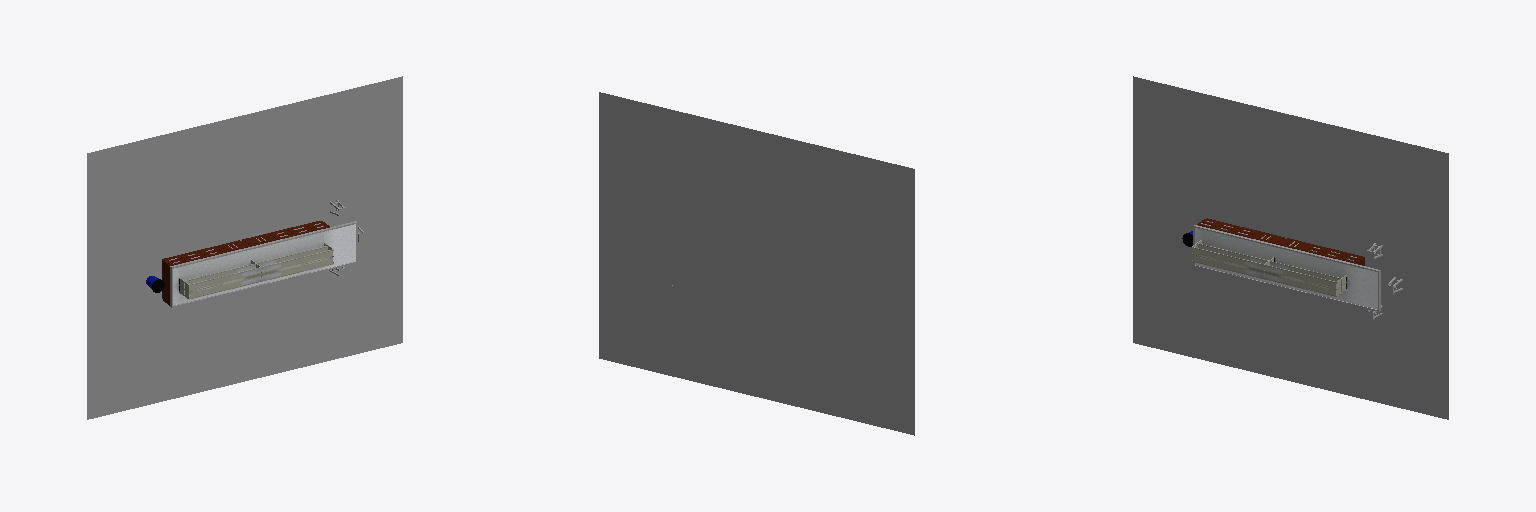
3 views of the same model, side by side, from view 1: azimuth 30°, elevation 25°; view 2: azimuth 150°, elevation 25°; view 3: azimuth 330°, elevation 25° (orthographic).
Visible parts, largest first — view 1: Plane.001, Cube.014_Cube.022, Cube.016; view 2: Plane.001; view 3: Plane.001, Cube.014_Cube.022, Cube.016.
Part boxes in pixels (left/top/right/bottom): Plane.001: left=87, top=76, right=402, bottom=419; Cube.014_Cube.022: left=162, top=221, right=357, bottom=307; Cube.016: left=179, top=242, right=333, bottom=299; Plane.001: left=599, top=92, right=914, bottom=435; Plane.001: left=1133, top=76, right=1448, bottom=419; Cube.014_Cube.022: left=1193, top=218, right=1380, bottom=311; Cube.016: left=1191, top=240, right=1346, bottom=296.
Bounding box in the file's own units: 59.93 × 48.27 × 7.07.
Materials: 9 (1 with a texture image).